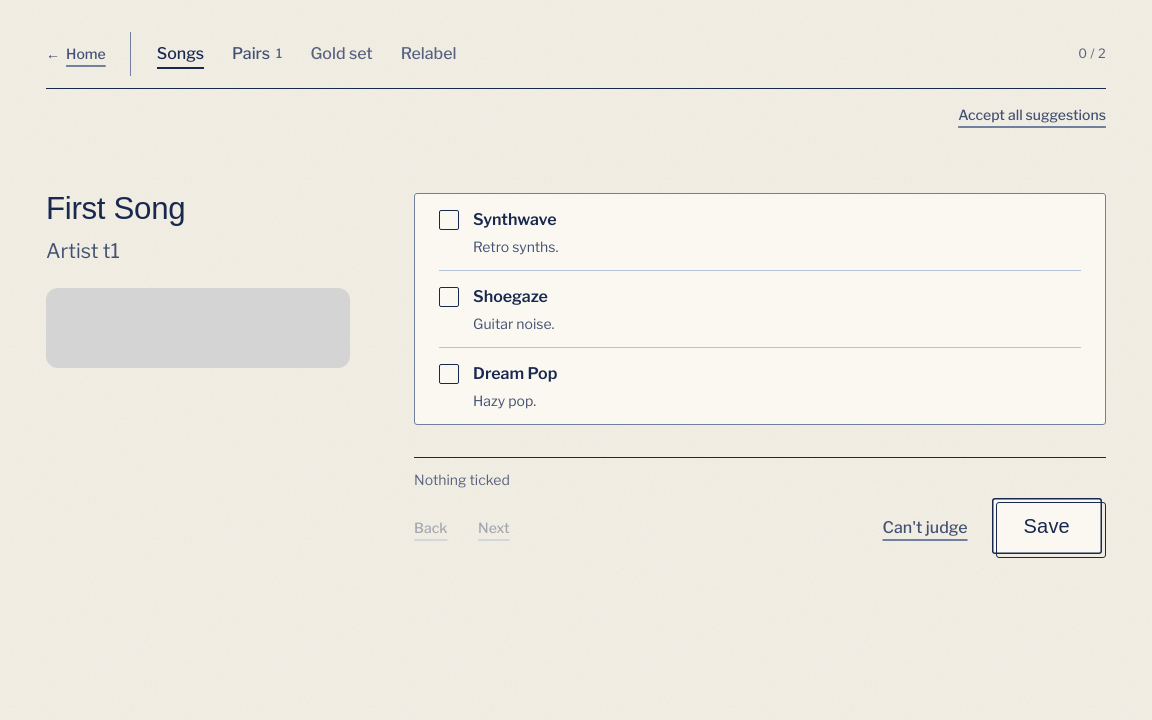
Test: /label ways out and onward › does not also say Nothing ticked under a saved can't judge
Click the button "Can't judge".
click(925, 528)  # box [883, 506, 968, 550]
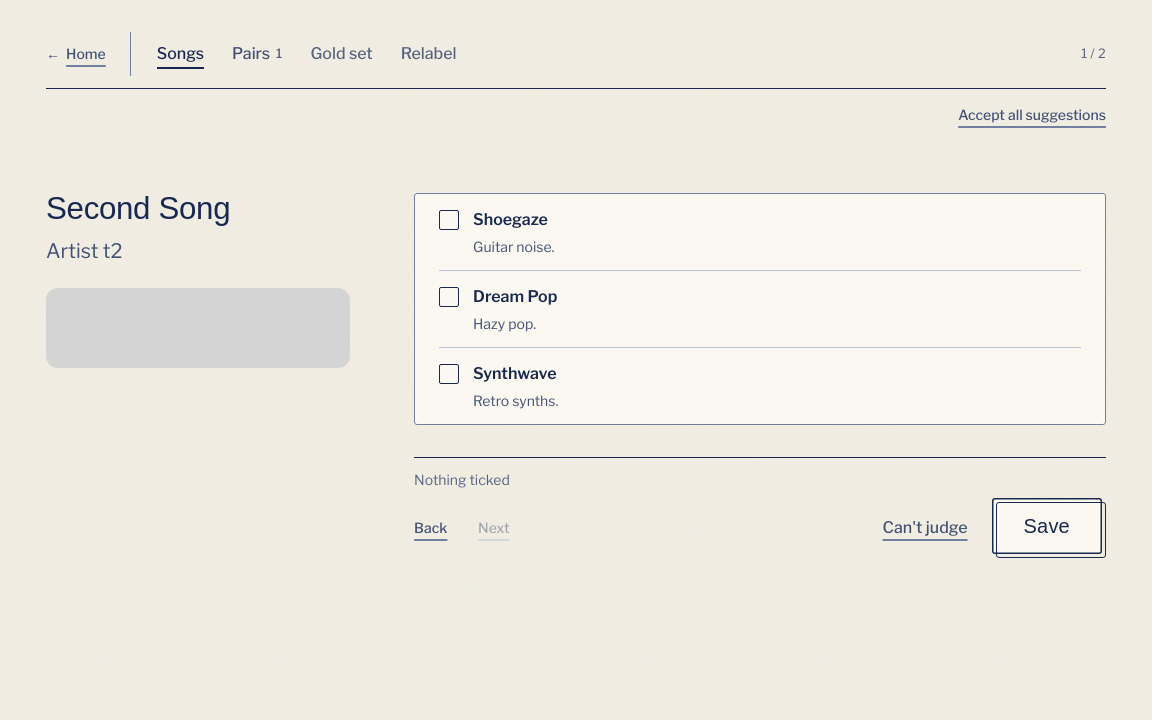
Click the button "Back".
click(436, 528)  # box [414, 506, 458, 550]
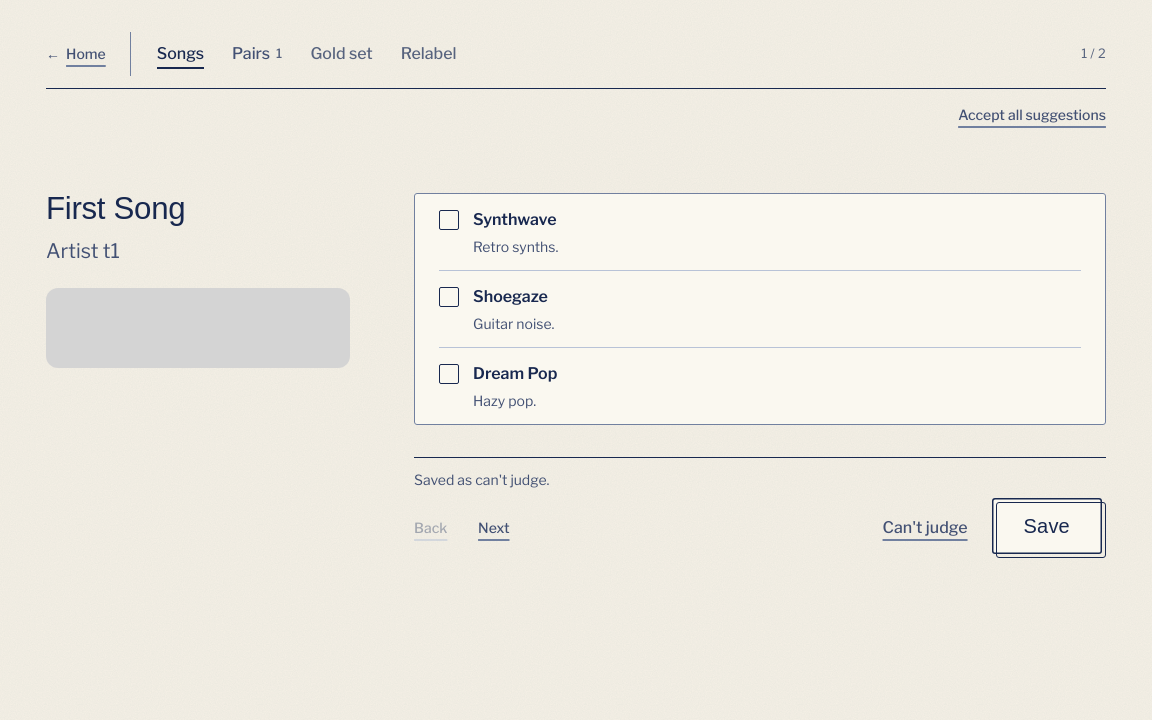
Now the text "Saved as can't judge." is shown, box [414, 471, 550, 488]
Now the text "Nothing ticked" is gone
